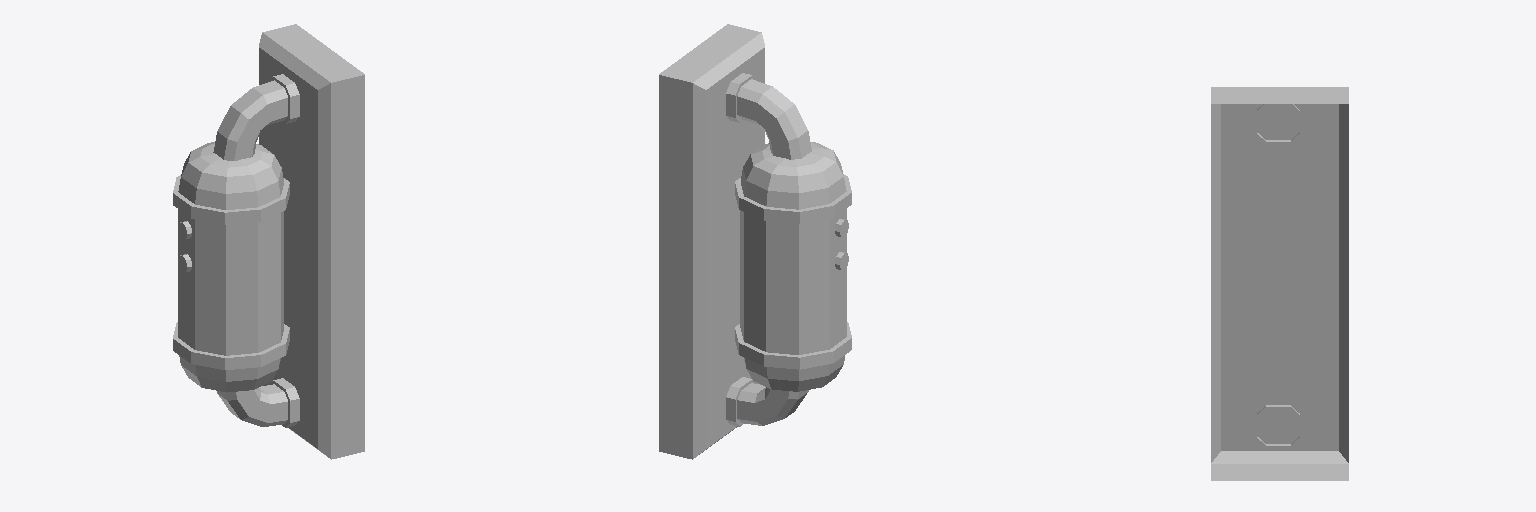
Rendered from fuel.obj.
3 views of the same model, side by side, from view 1: azimuth 30°, elevation 25°; view 2: azimuth 150°, elevation 25°; view 3: azimuth 270°, elevation 25° (orthographic).
Parts seen in each view (by area): view 1: fuel; view 2: fuel; view 3: fuel.
Boxes of the visible parts, box(x1,y1,x2,y2) form: fuel: box(173, 24, 364, 459); fuel: box(659, 24, 851, 459); fuel: box(1211, 87, 1348, 480).
Size of the model in its own units: 3.75 by 9.01 by 3.